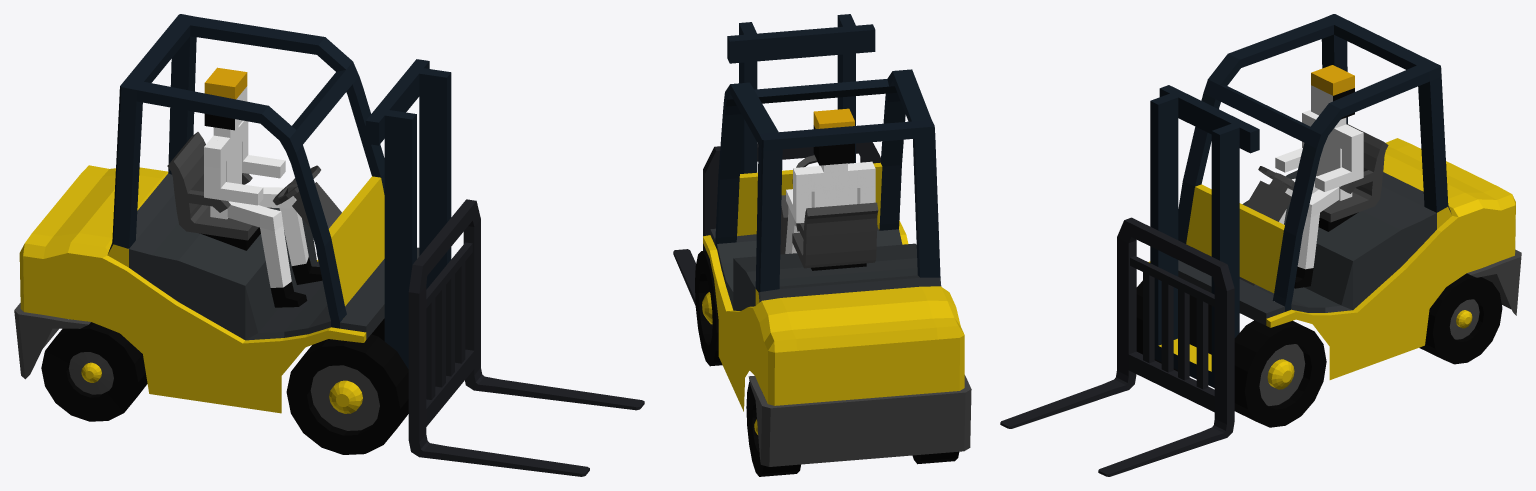
Rendered from truckLoader.glb.
3 views of the same model, side by side, from view 1: azimuth 30°, elevation 25°; view 2: azimuth 150°, elevation 25°; view 3: azimuth 270°, elevation 25° (orthographic). The views are drawn at different scales.
Parts seen in each view (by area): view 1: fork_lift02, worker; view 2: fork_lift02, worker; view 3: fork_lift02, worker.
Boxes of the visible parts, left/top/right/bottom form: fork_lift02: left=14, top=14, right=644, bottom=476; worker: left=204, top=67, right=322, bottom=307; fork_lift02: left=673, top=14, right=971, bottom=476; worker: left=785, top=108, right=875, bottom=253; fork_lift02: left=1000, top=14, right=1521, bottom=476; worker: left=1268, top=65, right=1363, bottom=288.
Bounding box in the file's own units: 1.31 × 0.8957 × 1.41.
